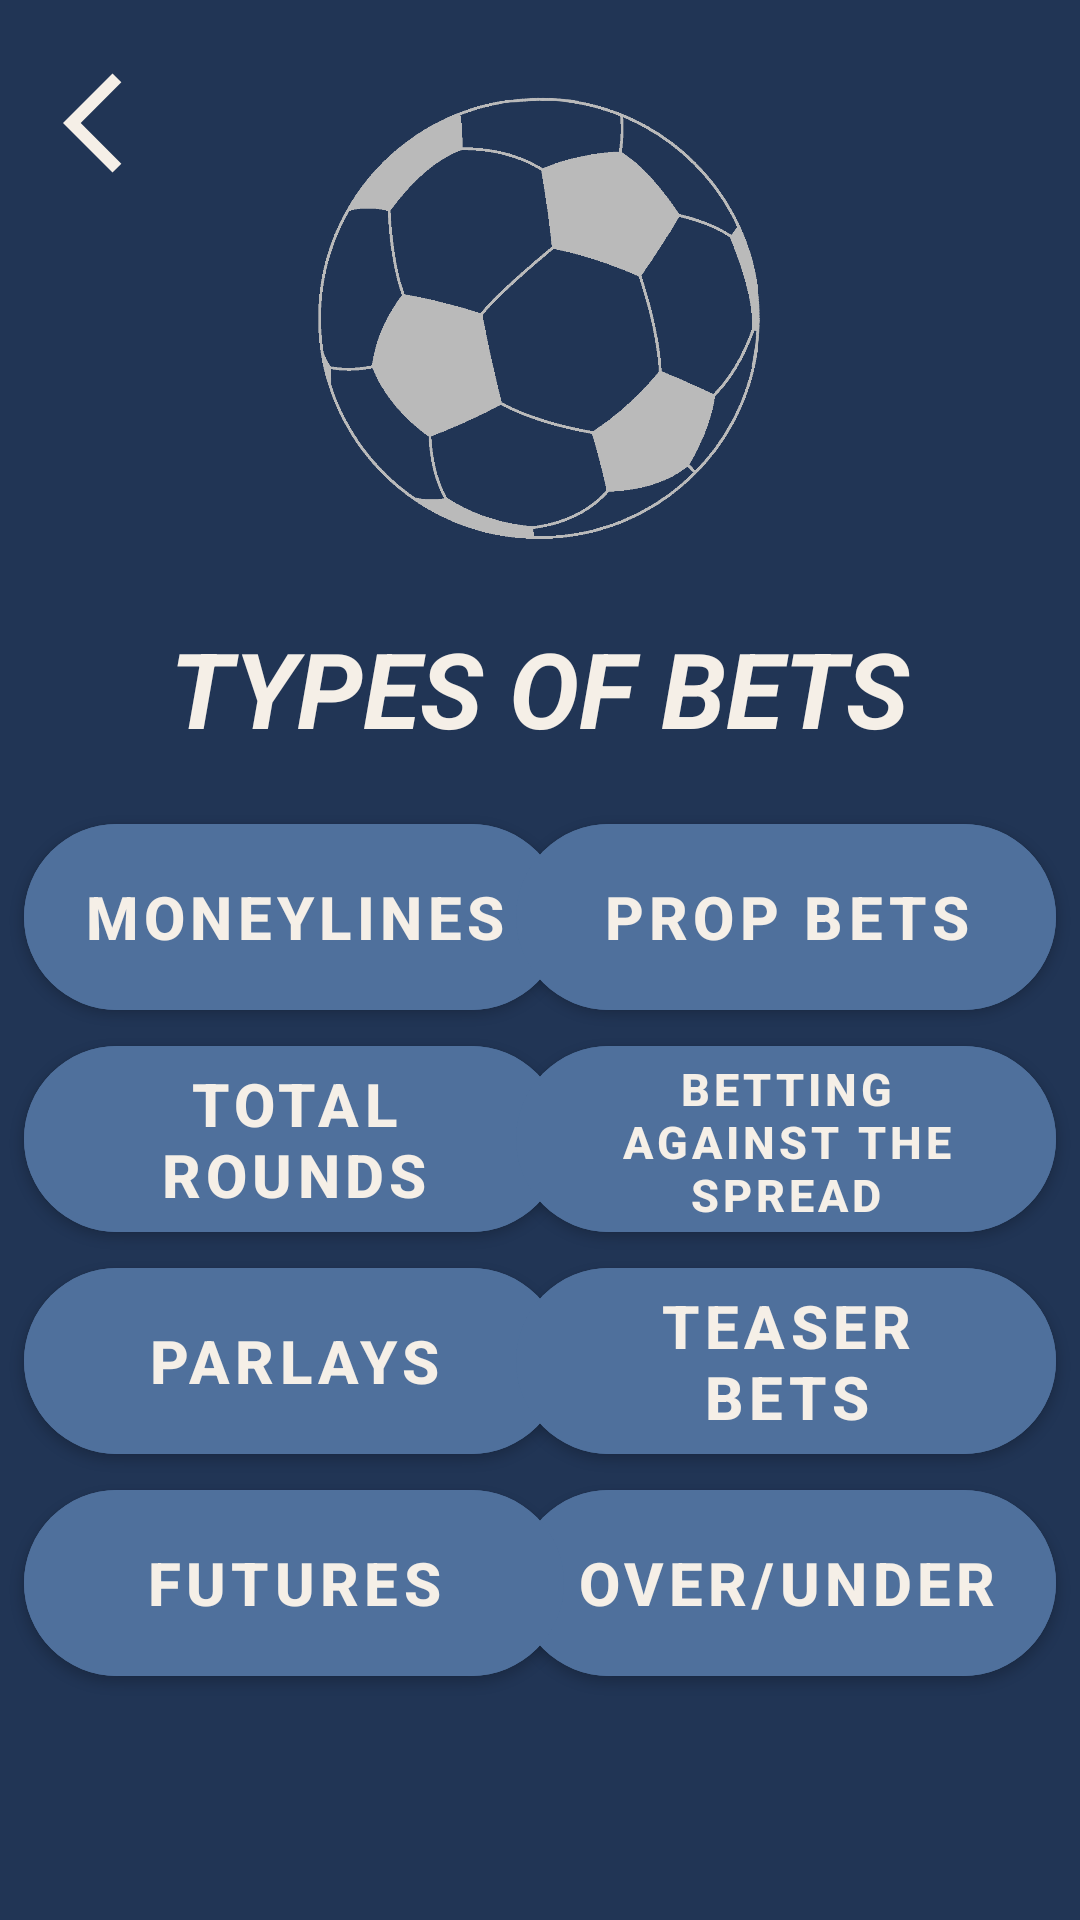

Where to tap for icons on this 1080×1920 app screen, as (x,y):
arrow back: (92,123)
